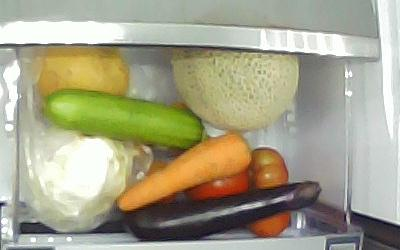cabbage: (28, 136, 131, 223)
carrot: (115, 131, 251, 211)
eggplant: (122, 179, 322, 241)
melon: (170, 46, 299, 130)
pear: (36, 44, 129, 98)
prune: (246, 146, 289, 189), (246, 207, 290, 237)
tomato: (182, 168, 250, 200)
zucchini: (37, 88, 211, 149)
